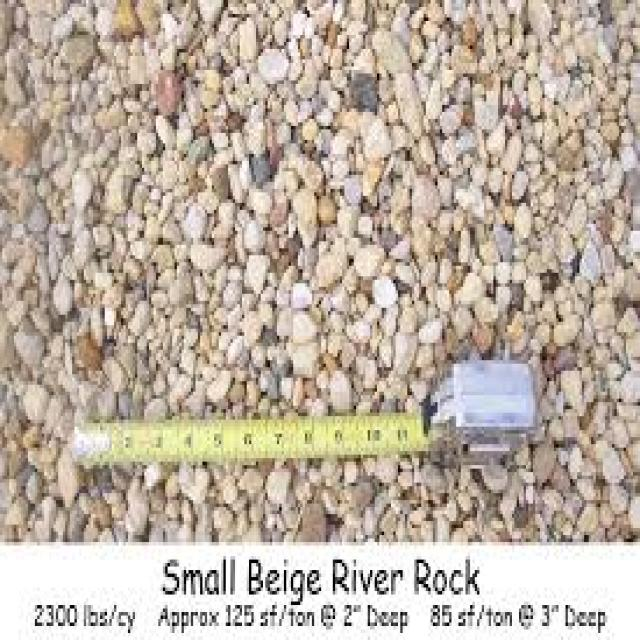scale: (72, 413, 428, 469)
